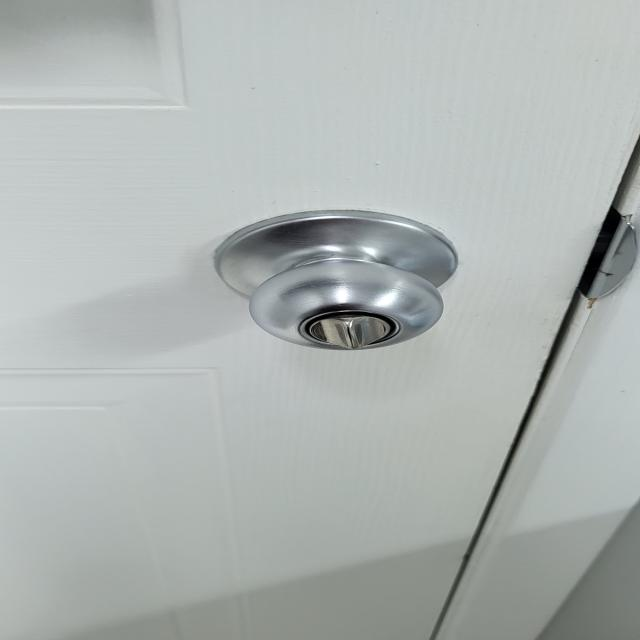door-knob: (214, 210, 457, 350)
